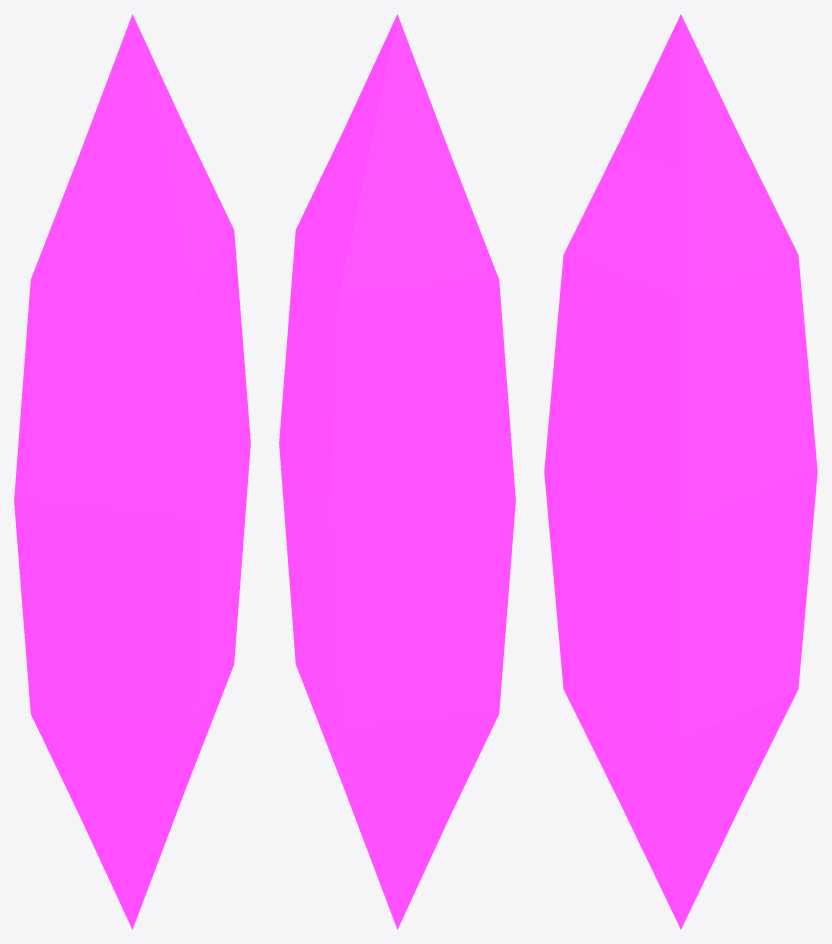
File: Project02_Asset_Purple_Crystal.fbx
3 views of the same model, side by side, from view 1: azimuth 30°, elevation 25°; view 2: azimuth 150°, elevation 25°; view 3: azimuth 270°, elevation 25° (orthographic).
Parts seen in each view (by area): view 1: Crystal 1; view 2: Crystal 1; view 3: Crystal 1.
Part boxes in pixels (x1,y1,x2,y2): Crystal 1: [14, 14, 250, 929]; Crystal 1: [279, 14, 515, 929]; Crystal 1: [544, 14, 817, 929].
Bounding box in the file's own units: 14.96 × 55.28 × 14.96.
